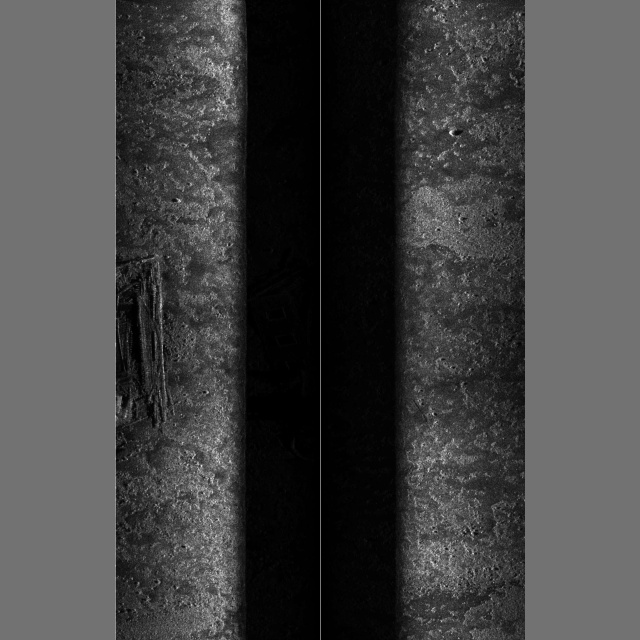Shipwreck: (115, 248, 428, 461)
